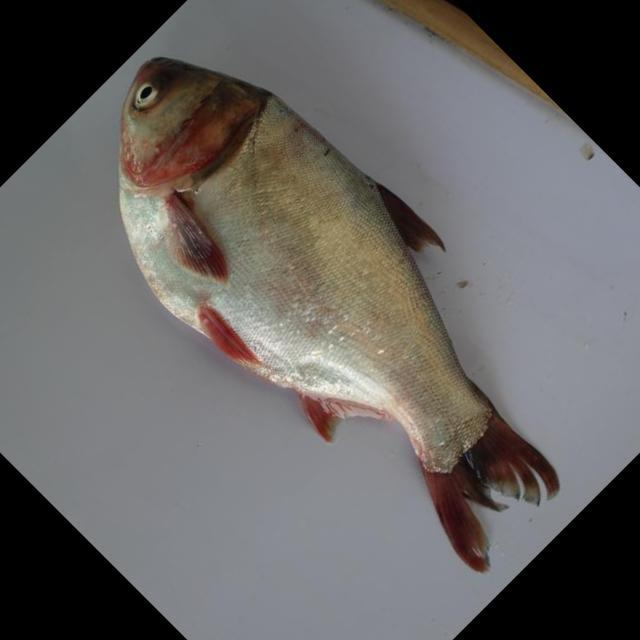SilverCarp: (117, 54, 577, 560)
